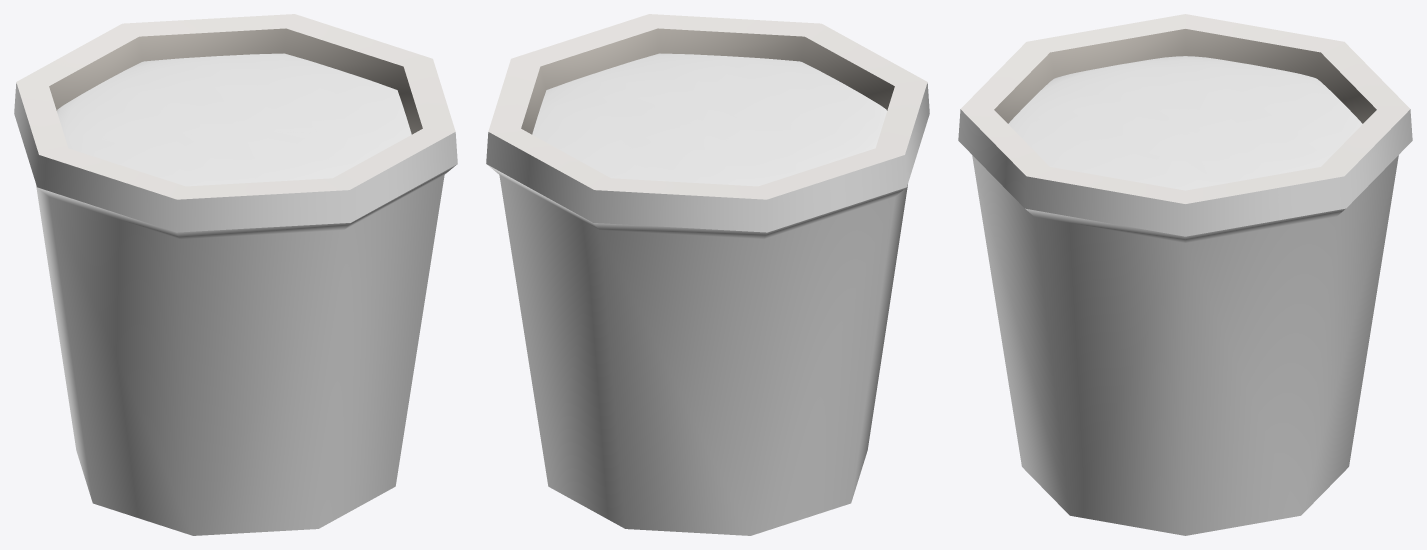
The model's file is SM_Prop_Bucket_filled_02.obj.
The picture shows the model from 3 angles, left to right: view 1: azimuth 30°, elevation 25°; view 2: azimuth 150°, elevation 25°; view 3: azimuth 270°, elevation 25°; orthographic projection.
Visible parts, largest first — view 1: SM_Prop_Bucket_filled_02_Mat_SwatchOverlay_PolygonTown_01_Inst, SM_Prop_Bucket_filled_02_m_InteriorStairs; view 2: SM_Prop_Bucket_filled_02_Mat_SwatchOverlay_PolygonTown_01_Inst, SM_Prop_Bucket_filled_02_m_InteriorStairs; view 3: SM_Prop_Bucket_filled_02_Mat_SwatchOverlay_PolygonTown_01_Inst, SM_Prop_Bucket_filled_02_m_InteriorStairs.
Boxes of the visible parts, box(x1,y1,x2,y2) form: SM_Prop_Bucket_filled_02_Mat_SwatchOverlay_PolygonTown_01_Inst: box(14, 14, 457, 535); SM_Prop_Bucket_filled_02_m_InteriorStairs: box(57, 53, 411, 186); SM_Prop_Bucket_filled_02_Mat_SwatchOverlay_PolygonTown_01_Inst: box(486, 14, 929, 535); SM_Prop_Bucket_filled_02_m_InteriorStairs: box(532, 53, 886, 186); SM_Prop_Bucket_filled_02_Mat_SwatchOverlay_PolygonTown_01_Inst: box(958, 14, 1412, 535); SM_Prop_Bucket_filled_02_m_InteriorStairs: box(1008, 56, 1362, 190).
Bounding box in the file's own units: 0.3872 × 0.3363 × 0.3872.
Materials: 2 (1 with a texture image).
